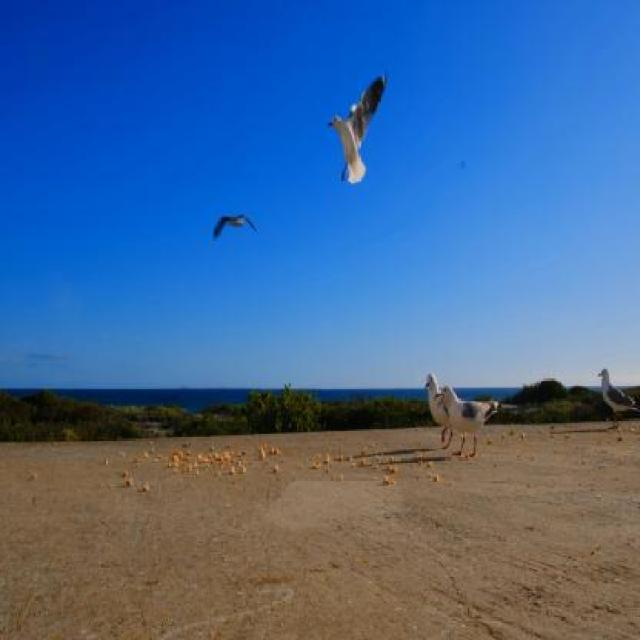bird: (323, 69, 391, 191), (212, 204, 258, 242)
